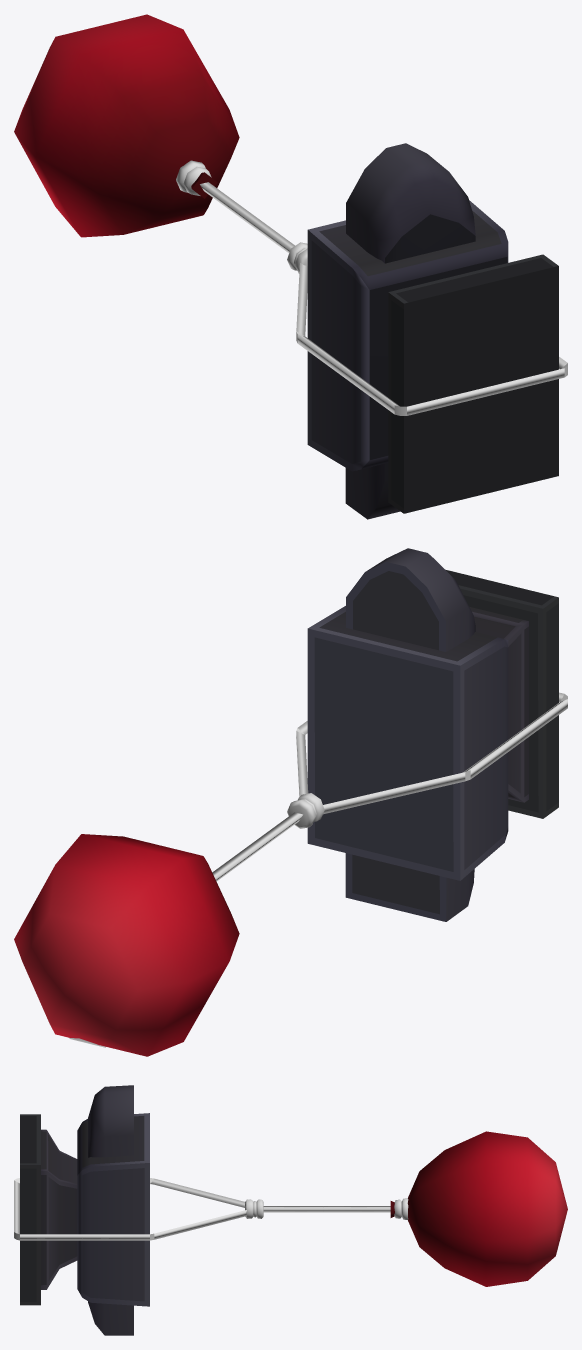
File: FloatingAnvil.fbx
3 renders of one model, top to bottom at view 1: azimuth 30°, elevation 25°; view 2: azimuth 150°, elevation 25°; view 3: azimuth 270°, elevation 25°, orthographic. The views are drawn at different scales.
Parts seen in each view (by area): view 1: FloatingAnvil; view 2: FloatingAnvil; view 3: FloatingAnvil.
Boxes of the visible parts, bbox=[...] form: FloatingAnvil: bbox=[14, 14, 567, 519]; FloatingAnvil: bbox=[14, 548, 567, 1056]; FloatingAnvil: bbox=[14, 1085, 567, 1335].
Size of the model in its own units: 85.12 by 145 by 314.
